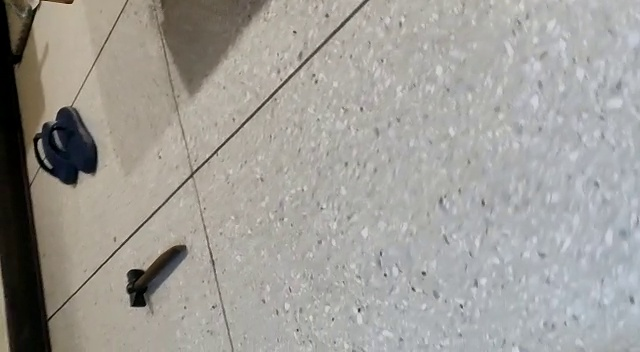hammer: (125, 243, 188, 309)
